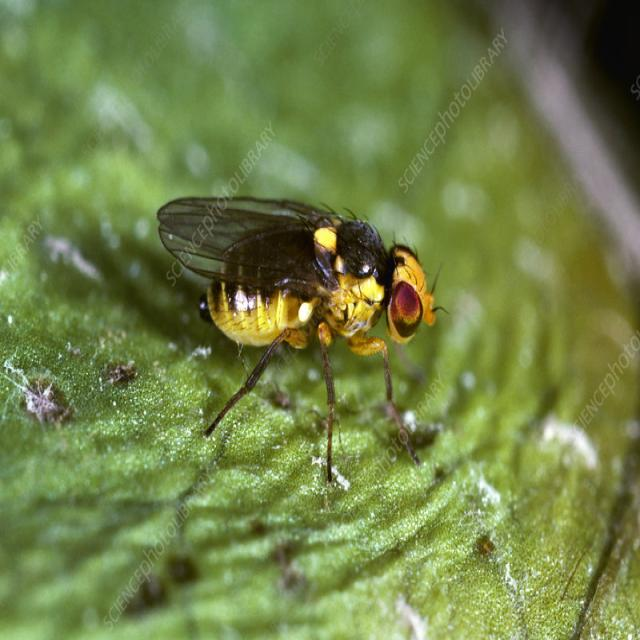IiriomyzaHuidobrensis: (120, 146, 528, 481)
